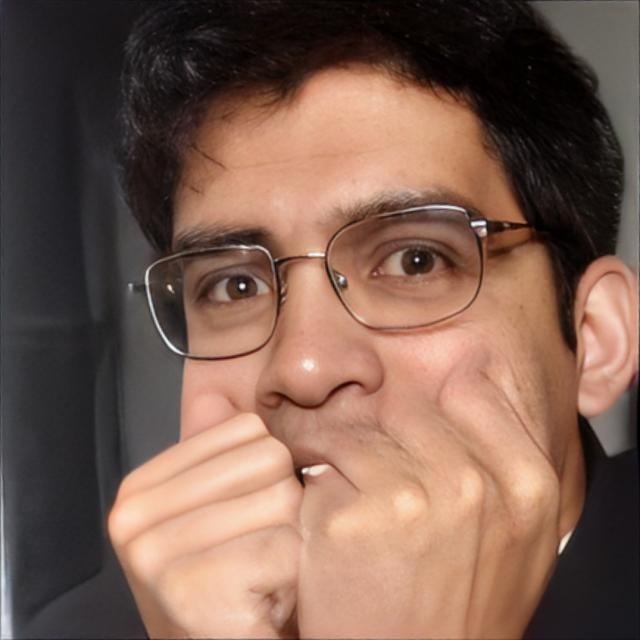fear: (168, 72, 580, 632)
